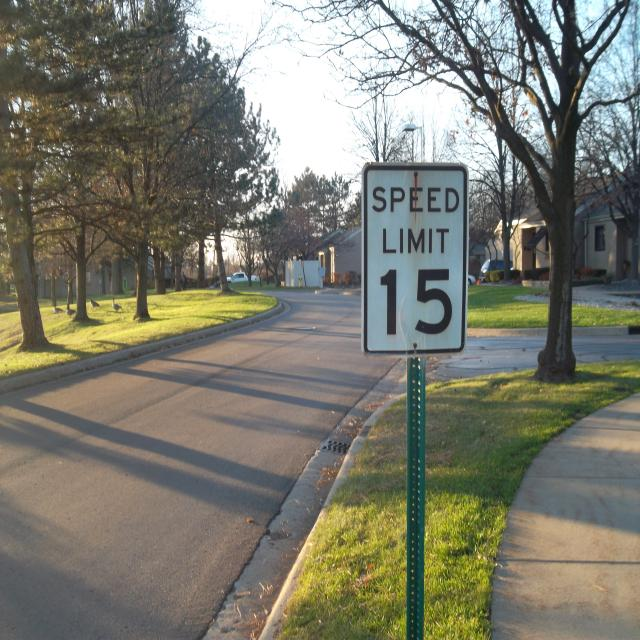regulatory: (359, 161, 469, 355)
